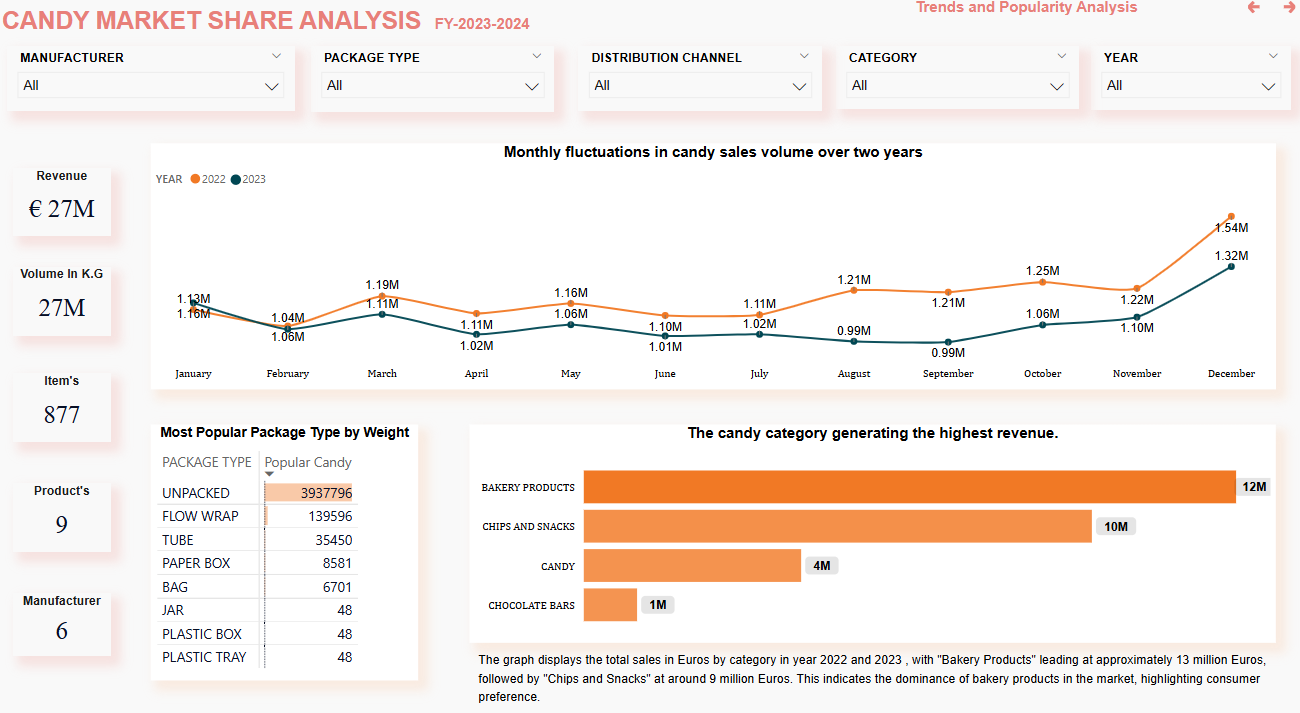

This screenshot's page, from the dashboard's own definition file:
{"tool":"powerbi","page":{"name":"Trends and popularity_analysis_dp2","canvas":[1280,720],"ordinal":1},"visuals":[{"type":"slicer","fields":{"Values":["Data.YEAR"]},"box":[1070,52.5,196.2,62.5],"z":0},{"type":"slicer","fields":{"Values":["Data.CATEGORY"]},"box":[820,52.5,238.8,61.2],"z":1000},{"type":"slicer","fields":{"Values":["Data.DISTRIBUTION CHANNEL"]},"box":[568.8,52.5,238.8,63.8],"z":2000},{"type":"slicer","fields":{"Values":["Data.PACKAGE TYPE"]},"box":[307.5,52.5,238.8,65],"z":3000},{"type":"slicer","title":"MANUFACTURER","fields":{"Values":["Data.MANUFACTURER"]},"box":[10,52.5,281.2,63.8],"z":4000},{"type":"card","title":"Volume In K.G","fields":{"Values":["measure.Total_Volume_kg"]},"box":[16.2,268.8,95,67.5],"z":5000},{"type":"card","title":"Revenue","fields":{"Values":["measure.Total_Sales_Eur"]},"box":[16.2,172.5,95,66.2],"z":6000},{"type":"card","title":"Product''s","fields":{"Values":["measure.Total_Product"]},"box":[16.2,480,95,67.5],"z":7000},{"type":"card","title":"Manufacturer","fields":{"Values":["measure.Total_Manufacturer"]},"box":[16.2,588.8,95,61.2],"z":8000},{"type":"card","title":"Item''s","fields":{"Values":["measure.Total_Item"]},"box":[16.2,372.5,95,67.5],"z":9000},{"type":"textbox","box":[0,10,615,70],"z":10000},{"type":"barChart","title":"The candy category generating the highest revenue.","fields":{"Category":["Data.CATEGORY"],"Y":["measure.Total_Sales_Eur"]},"box":[462.2,423.1,788.7,214],"z":11000},{"type":"lineChart","title":"Monthly fluctuations in candy sales volume over two years","fields":{"Y":["measure.Total_Volume_kg"],"Category":["Data.MONTH"],"Series":["Data.YEAR"]},"box":[150.4,148,1100.5,240.9],"z":12000},{"type":"tableEx","title":"Most Popular Package Type by Weight","fields":{"Values":["Data.PACKAGE TYPE","measure.Popular Candy"]},"box":[150.4,423.1,261.7,250.7],"z":13000},{"type":"textbox","box":[465.9,637.1,799.7,73.4],"z":14000},{"type":"textbox","box":[887.5,0,238.7,33.1],"z":15000},{"type":"actionButton","box":[1214.4,0,34.3,29.4],"z":16000},{"type":"actionButton","box":[1248.7,0,31.8,29.4],"z":17000}]}

Visuals, with their boxes in screenshot pixels (x1, y1, x2, y2), scaled from the page's 1280x720 canvas onto the 1300x713 screenshot:
slicer - Data.YEAR: [left=1087, top=52, right=1286, bottom=114]
slicer - Data.CATEGORY: [left=833, top=52, right=1075, bottom=113]
slicer - Data.DISTRIBUTION CHANNEL: [left=578, top=52, right=820, bottom=115]
slicer - Data.PACKAGE TYPE: [left=312, top=52, right=555, bottom=116]
"MANUFACTURER" slicer: [left=10, top=52, right=296, bottom=115]
"Volume In K.G" card: [left=16, top=266, right=113, bottom=333]
"Revenue" card: [left=16, top=171, right=113, bottom=236]
"Product''s" card: [left=16, top=475, right=113, bottom=542]
"Manufacturer" card: [left=16, top=583, right=113, bottom=644]
"Item''s" card: [left=16, top=369, right=113, bottom=436]
textbox: [left=0, top=10, right=625, bottom=79]
"The candy category generating the highest revenue." barChart: [left=469, top=419, right=1270, bottom=631]
"Monthly fluctuations in candy sales volume over two years" lineChart: [left=153, top=147, right=1270, bottom=385]
"Most Popular Package Type by Weight" tableEx: [left=153, top=419, right=419, bottom=667]
textbox: [left=473, top=631, right=1285, bottom=704]
textbox: [left=901, top=0, right=1144, bottom=33]
actionButton: [left=1233, top=0, right=1268, bottom=29]
actionButton: [left=1268, top=0, right=1299, bottom=29]
